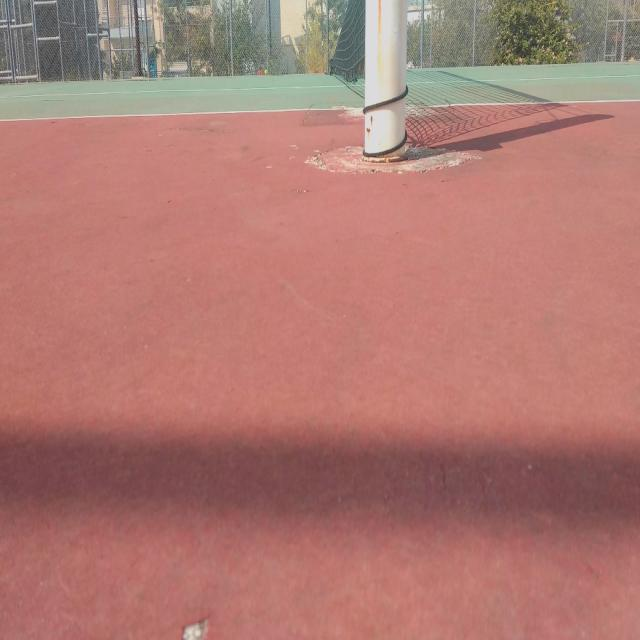ball: (264, 70, 268, 75)
